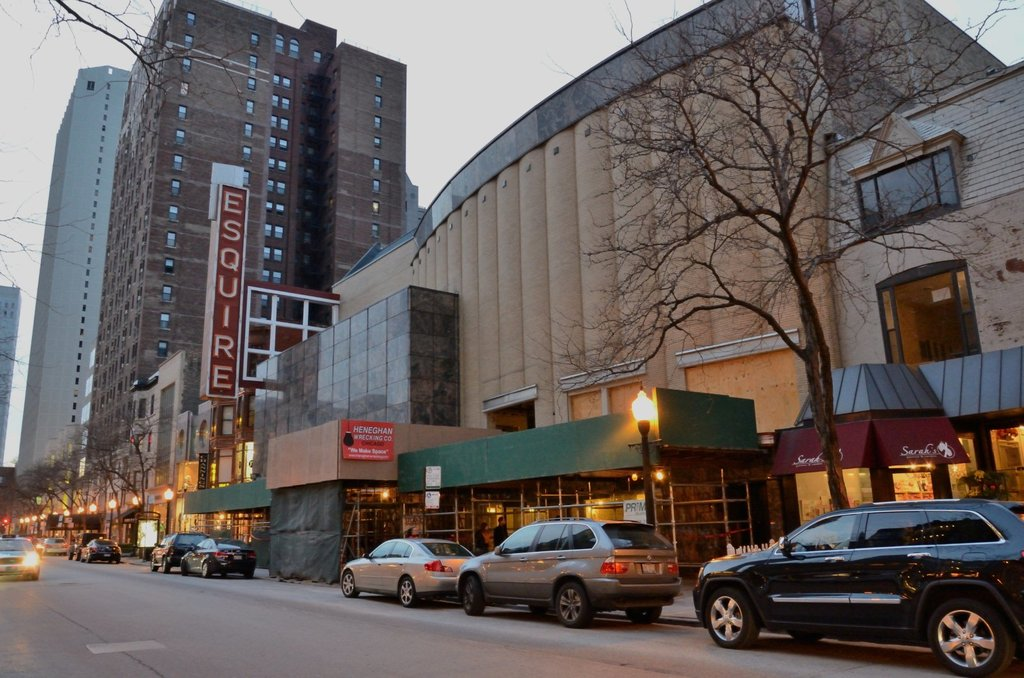Car: (693, 505, 1024, 666), (453, 508, 677, 623), (335, 535, 486, 597), (183, 534, 257, 575), (149, 524, 209, 572), (0, 528, 44, 575), (78, 534, 122, 559)
